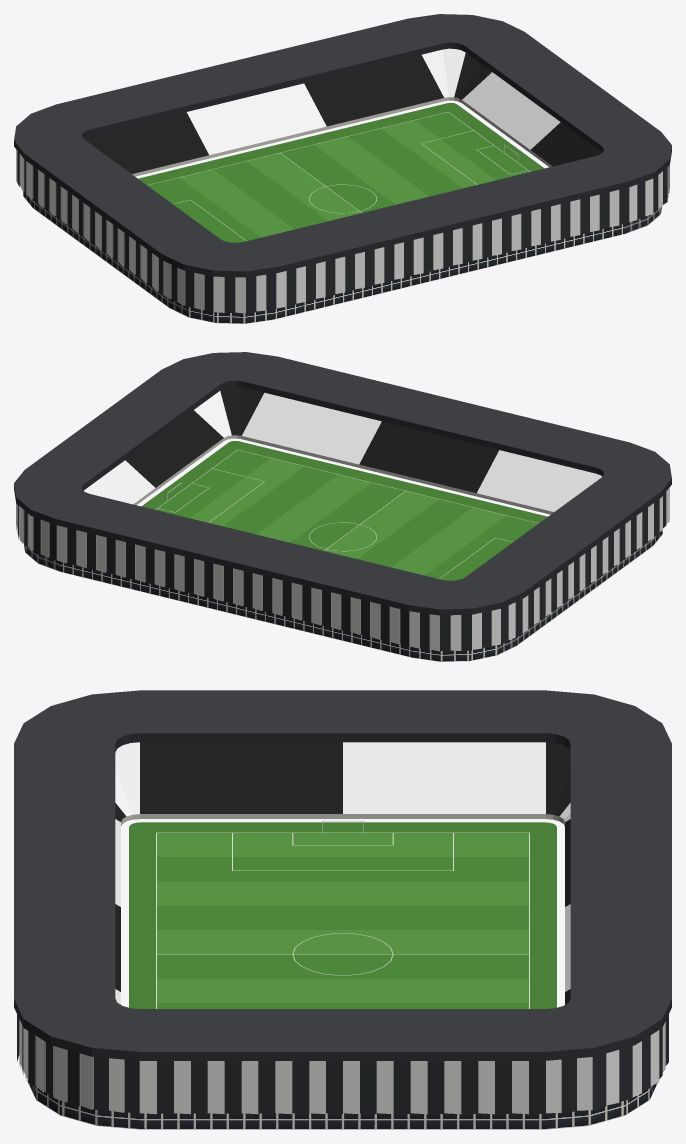
The model's file is stade_lugano.glb.
3 views of the same model, one above another, from view 1: azimuth 30°, elevation 25°; view 2: azimuth 150°, elevation 25°; view 3: azimuth 270°, elevation 25° (orthographic). The views are drawn at different scales.
Parts seen in each view (by area): view 1: stade_lugano; view 2: stade_lugano; view 3: stade_lugano.
Boxes of the visible parts, x1,y1,x2,y2 form: stade_lugano: (14,14,671,323); stade_lugano: (14,352,671,661); stade_lugano: (14,690,671,1129).
Bounding box in the file's own units: 156 × 16.8 × 120.
2 materials, 2 textured.
